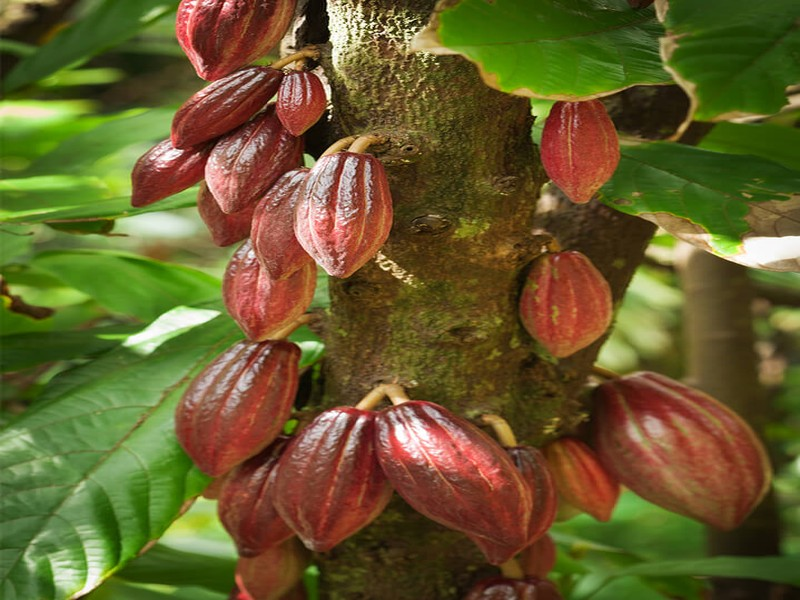Cacaopod: (373, 402, 531, 550), (176, 343, 293, 468), (293, 151, 395, 271)
